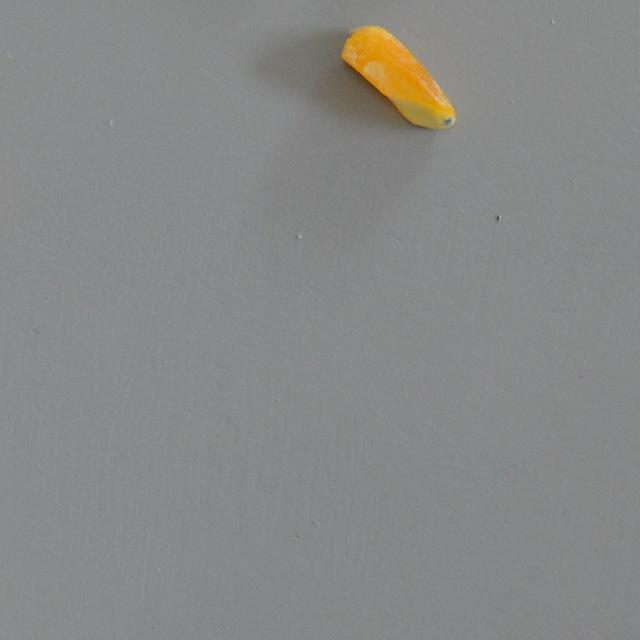punto_negro: (337, 20, 456, 132)
